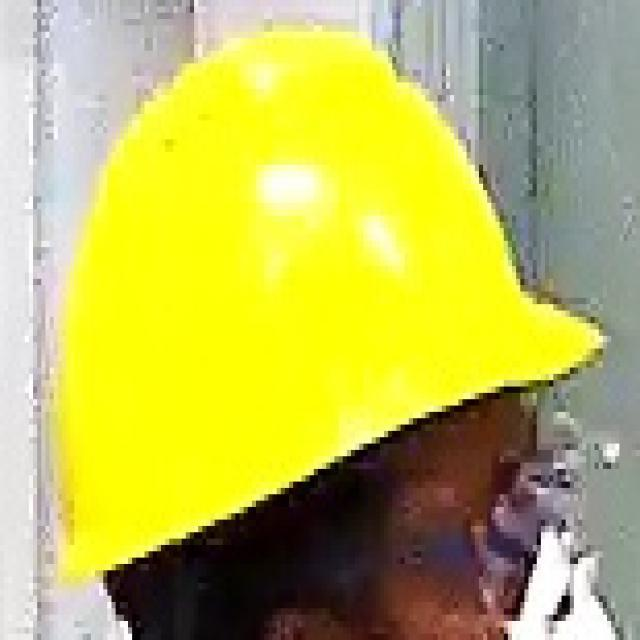yellow helmet: (48, 24, 586, 584)
